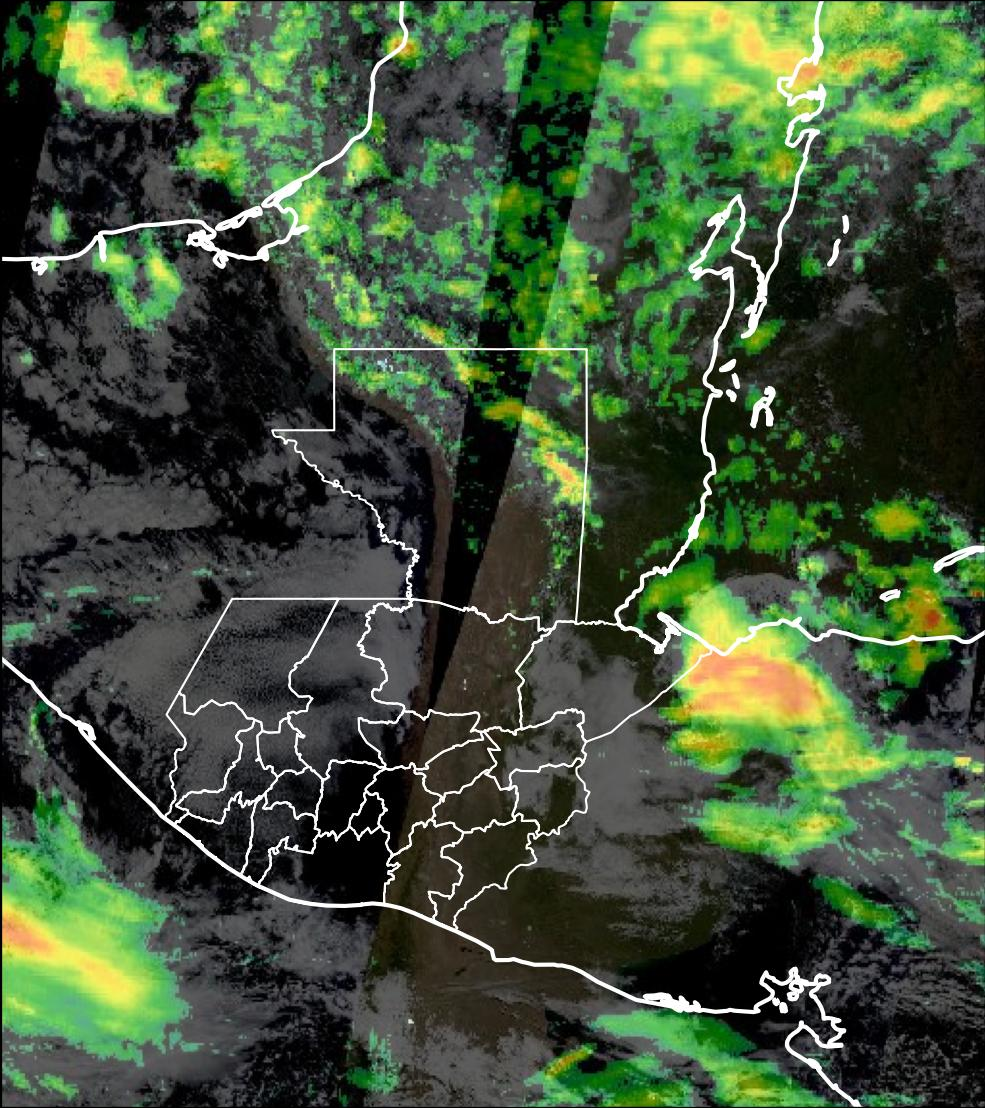precipitacion: (1, 894, 135, 1017), (693, 643, 838, 734)
